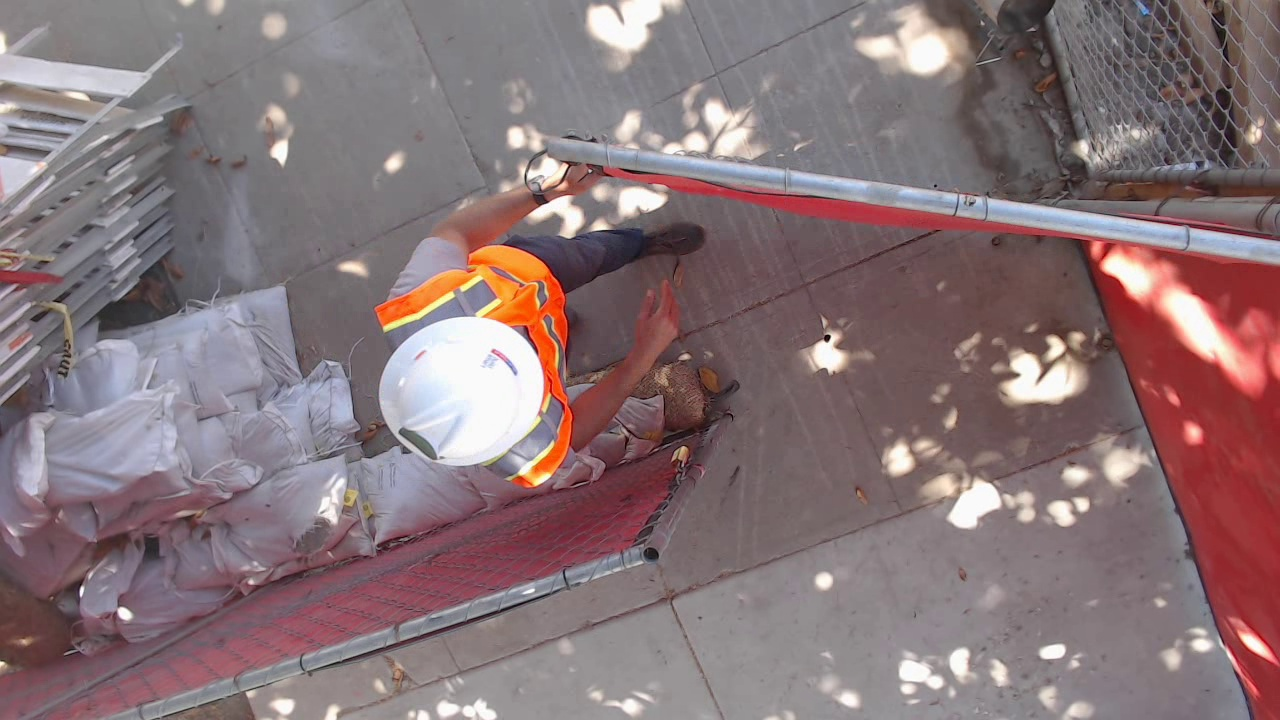person: (852, 484, 1158, 720)
safetyvest: (882, 460, 1158, 720)
